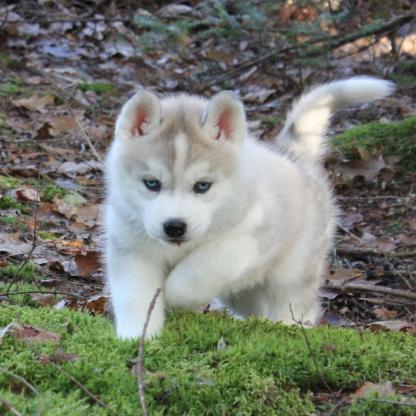husky: (101, 75, 394, 339)
